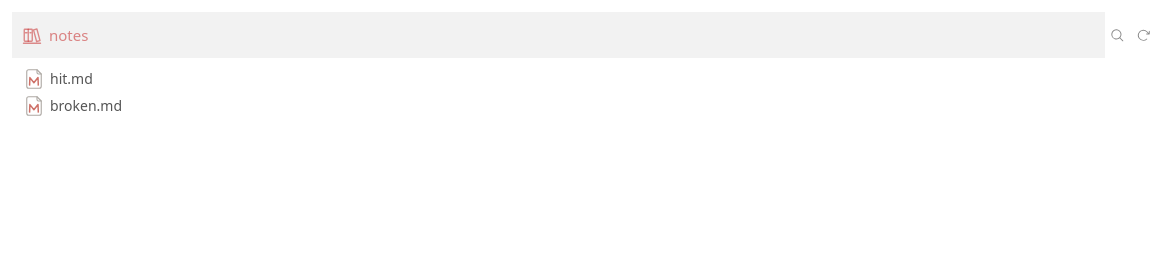
it: keeps current-folder matches visible when another document cannot be read
Click the button named "搜索工作区".
click(1118, 35)  # box left=1105, top=22, right=1130, bottom=48
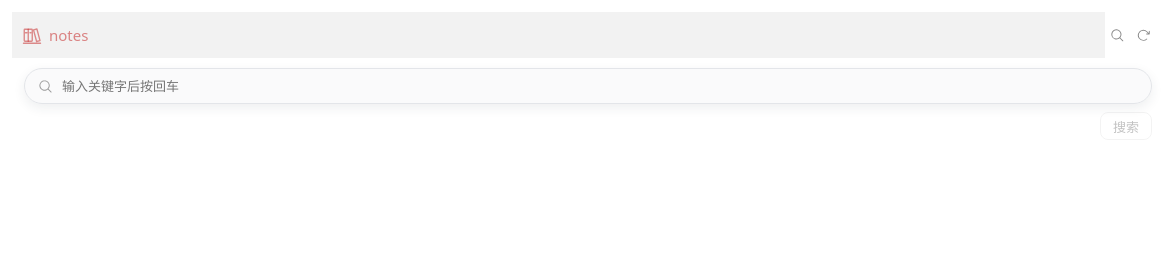
Type "needle" into the search field named "搜索工作区".
click(598, 86); type("needle")  # box left=53, top=72, right=1144, bottom=100
Then press Enter
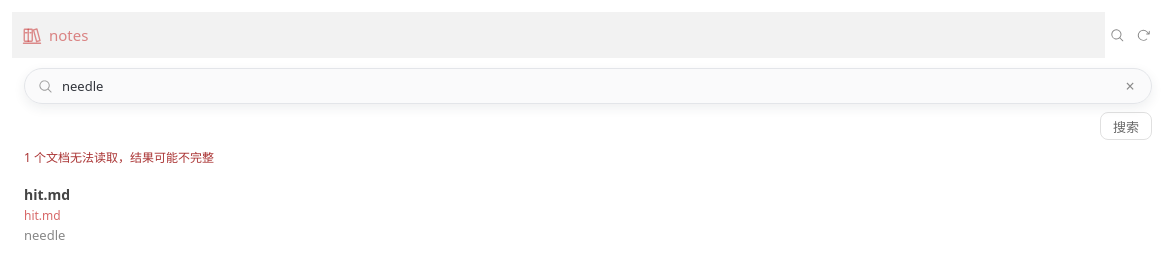
Now the button "hit.md hit.md needle" is shown, box left=12, top=178, right=1164, bottom=252
Now the message reads "1 个文档无法读取，结果可能不完整", box left=24, top=149, right=214, bottom=166
